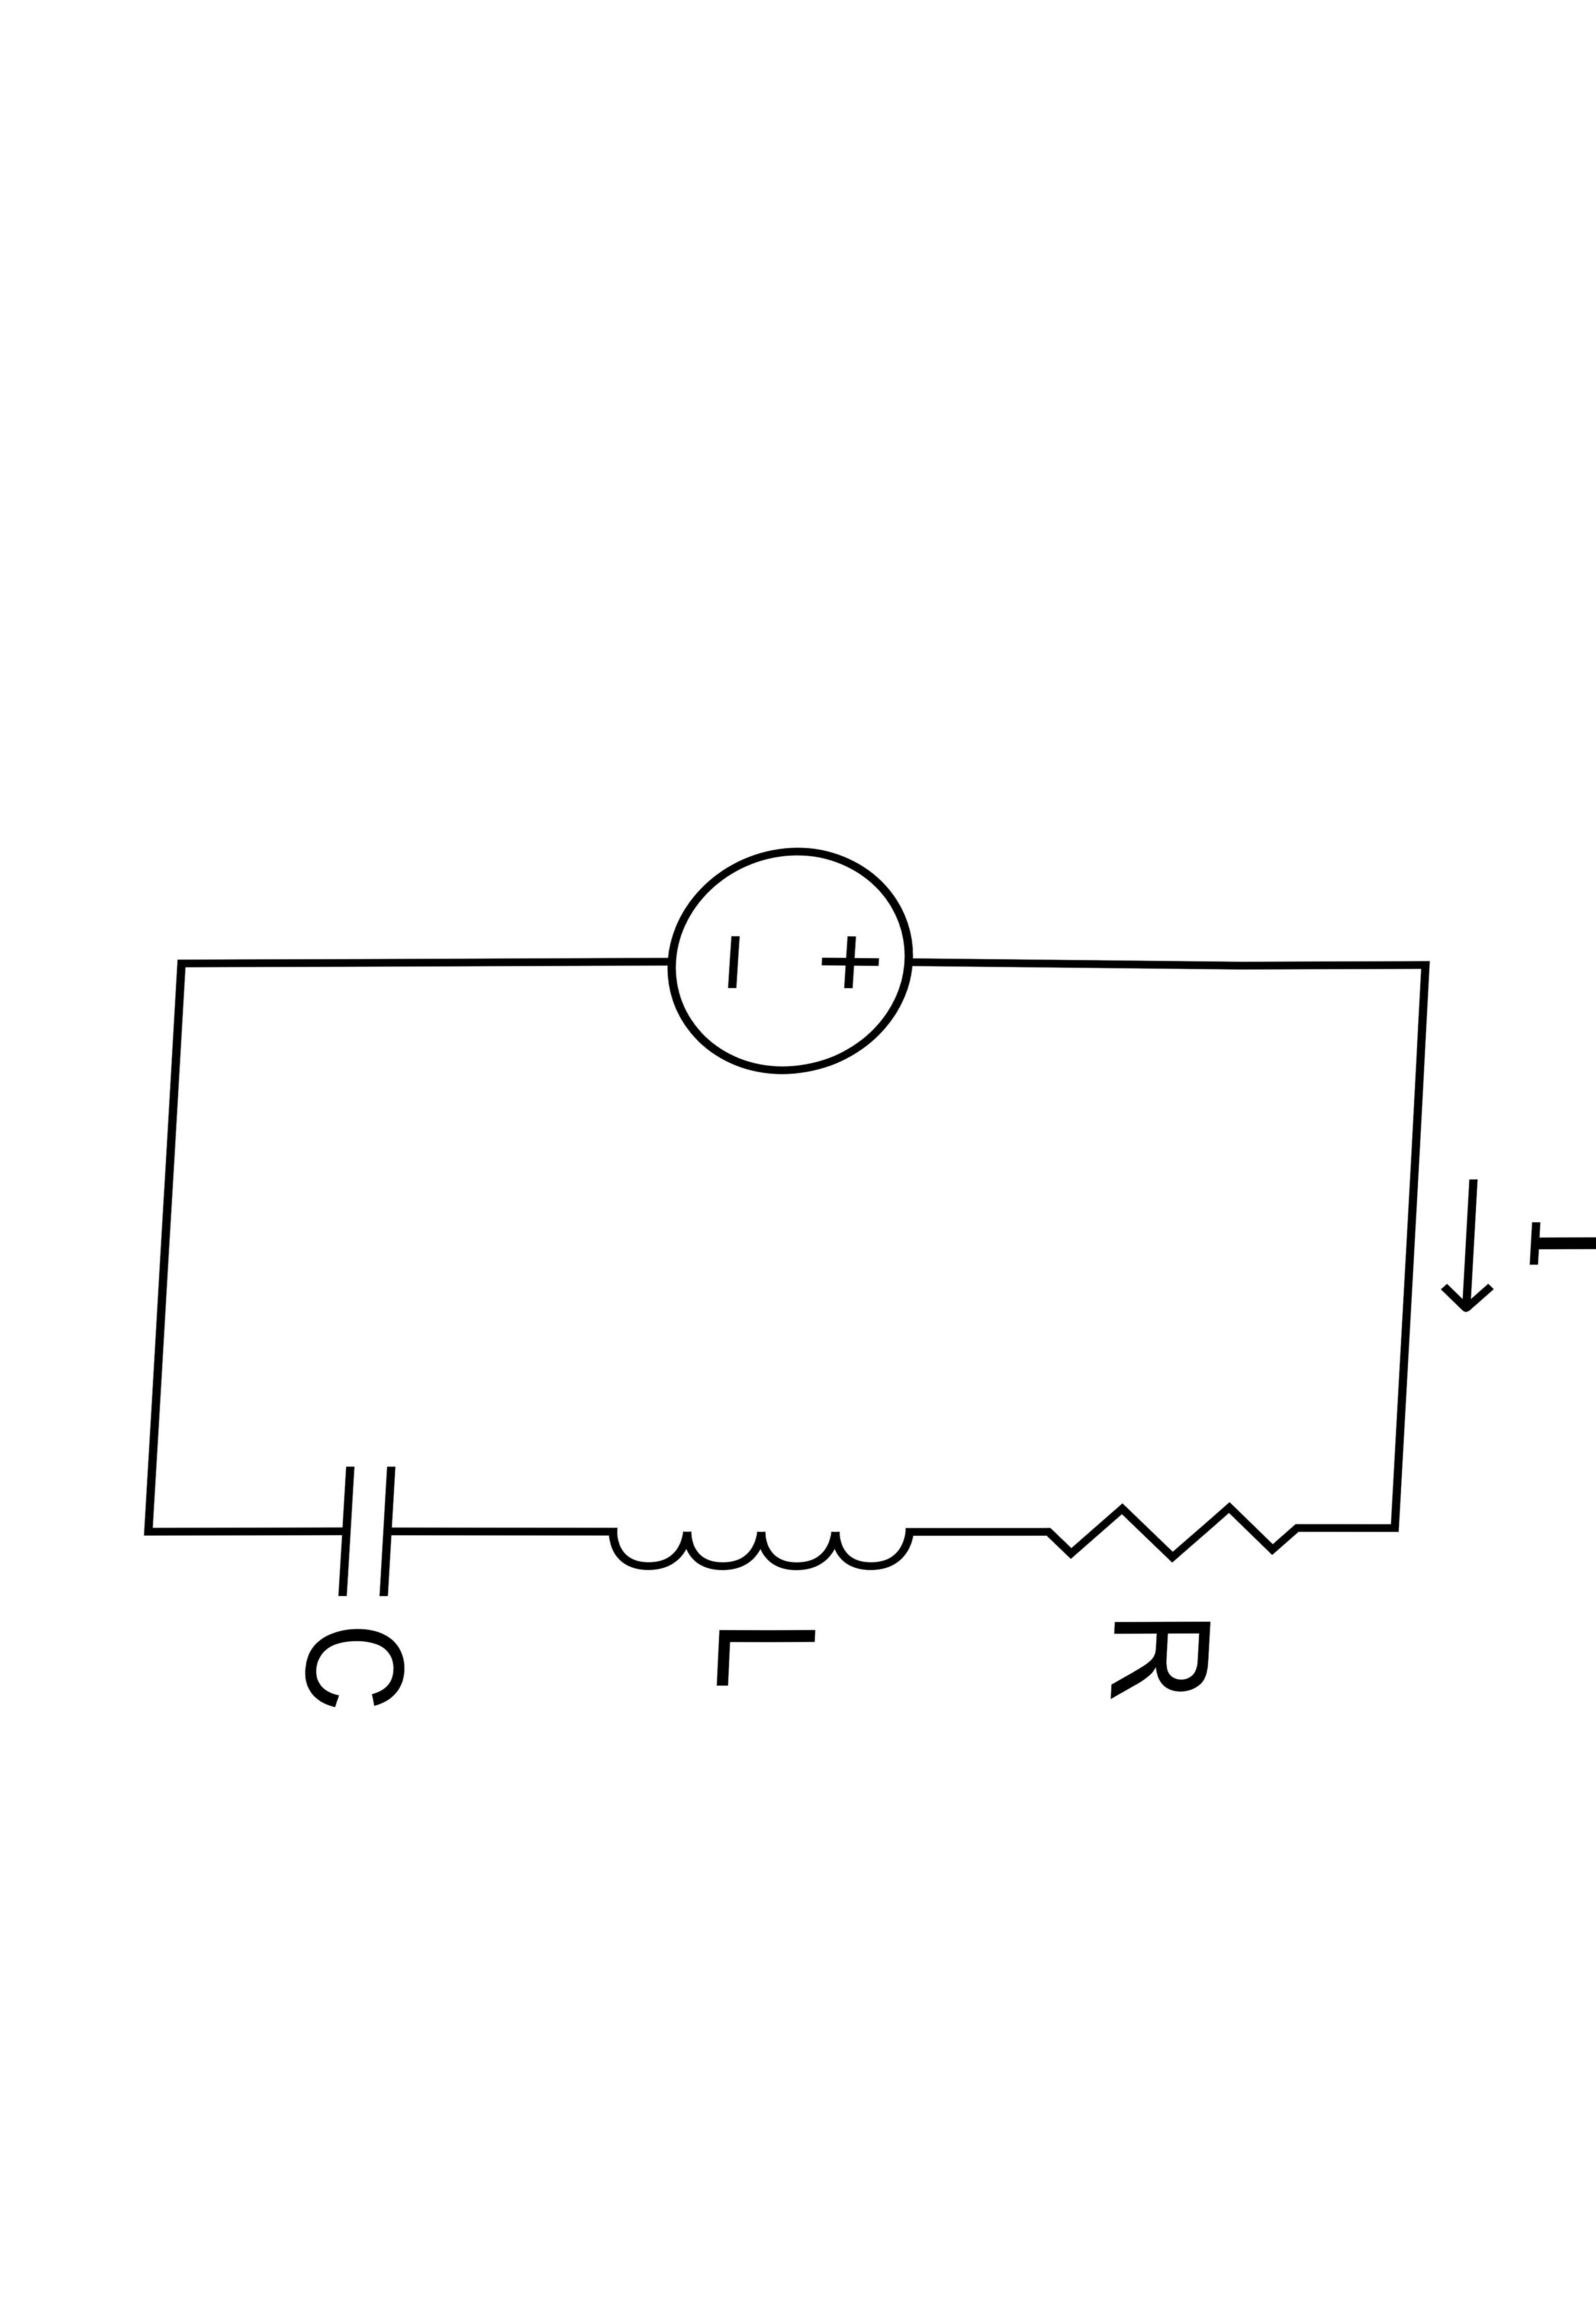Battery: (586, 756, 978, 1179)
